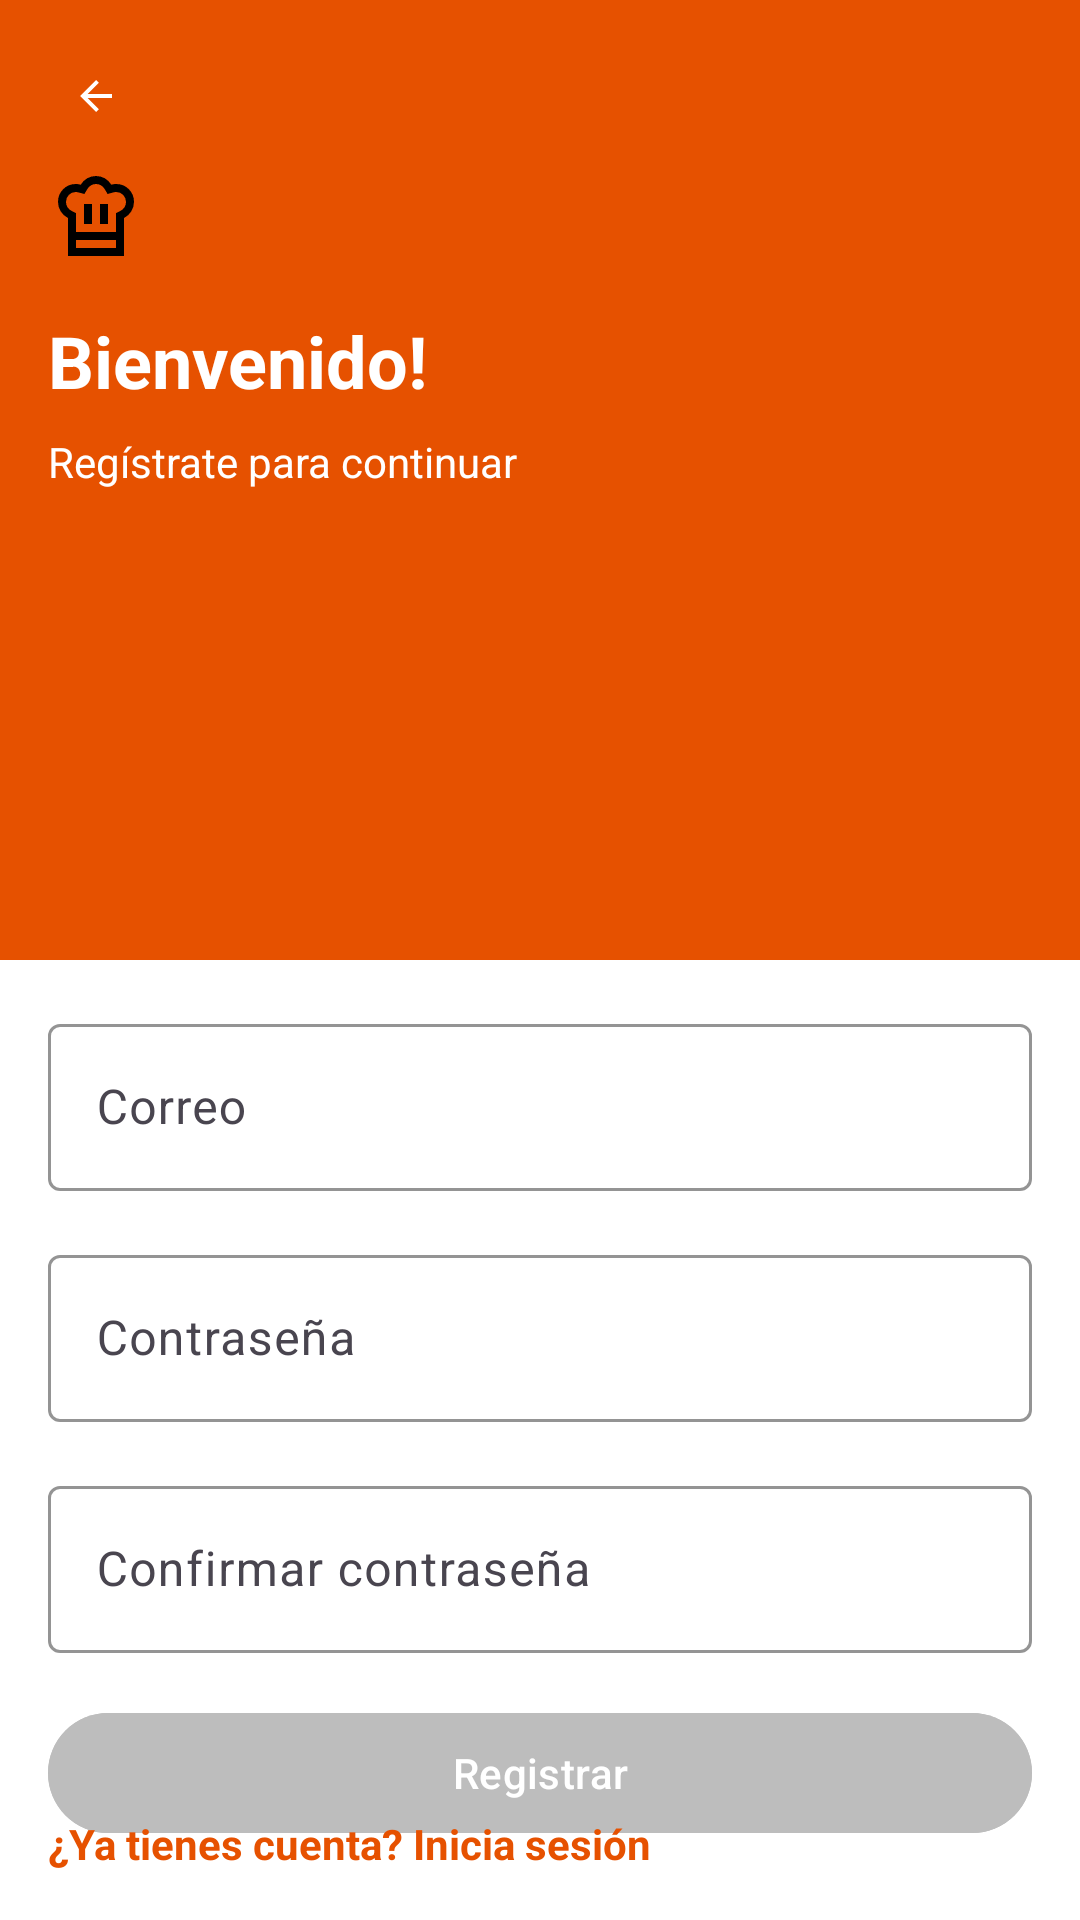

Icon click points for this 1080px×1920px phone screenshot, format [x,y]:
Regresar: [96,96]
